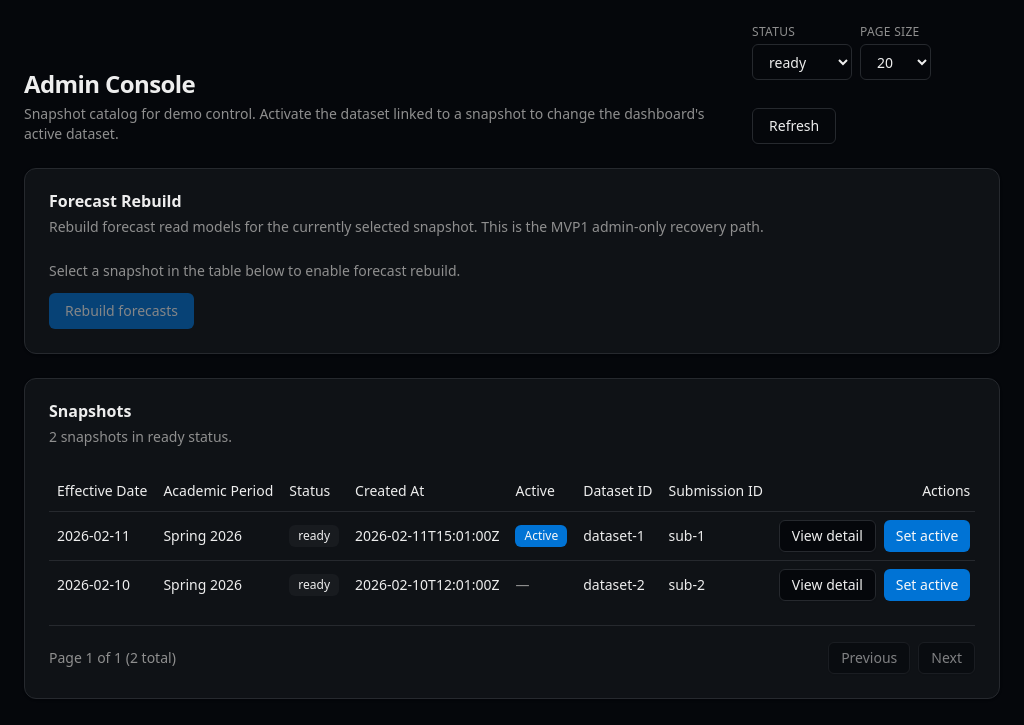
Test: Admin Console route › requests forecast rebuild for the selected snapshot from admin console
The width and height of the screenshot is (1024, 725).
Click the button with aria-label "View snapshot detail snap-ready-inactive".
click(827, 584)  # box [779,568,876,600]
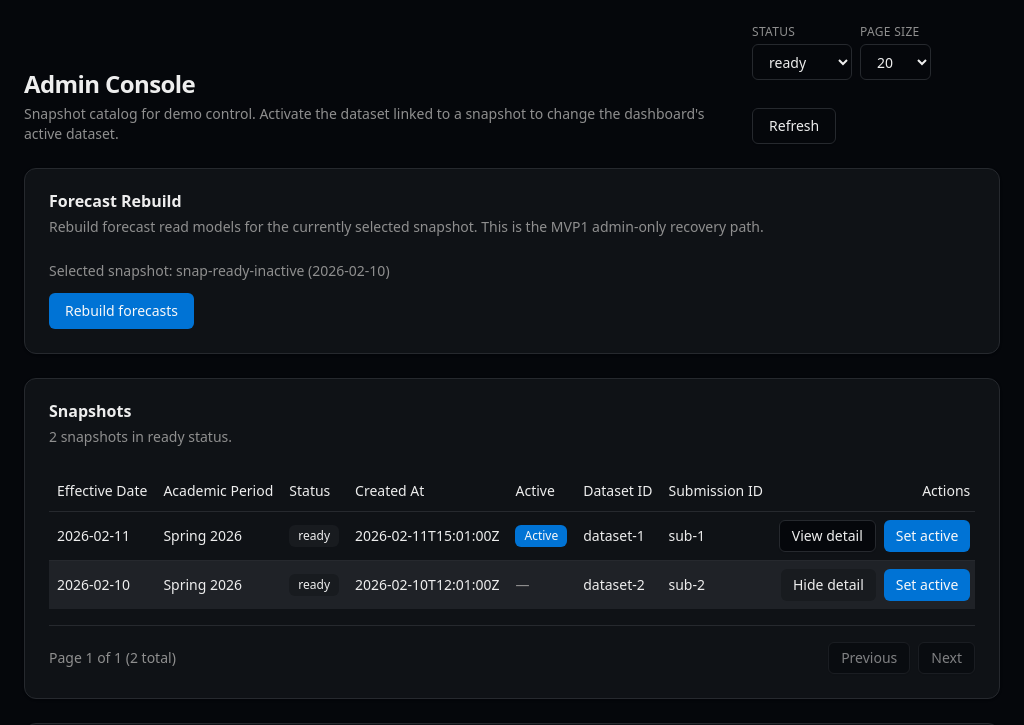
Click the button with test id "admin-console-rebuild-forecasts-button".
click(122, 311)  # box [49,293,194,329]
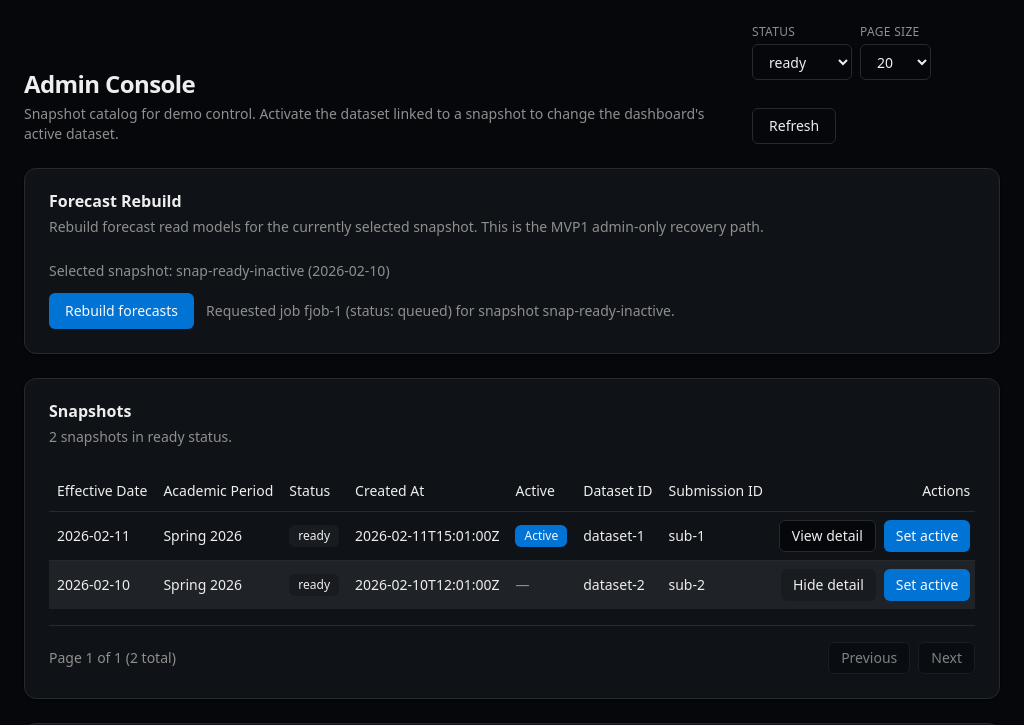
Expected: the text with test id "admin-console-forecast-rebuild-success" reads "Requested job fjob-1 (status: queued) for snapshot snap-ready-inactive.", [206,301,675,321]
